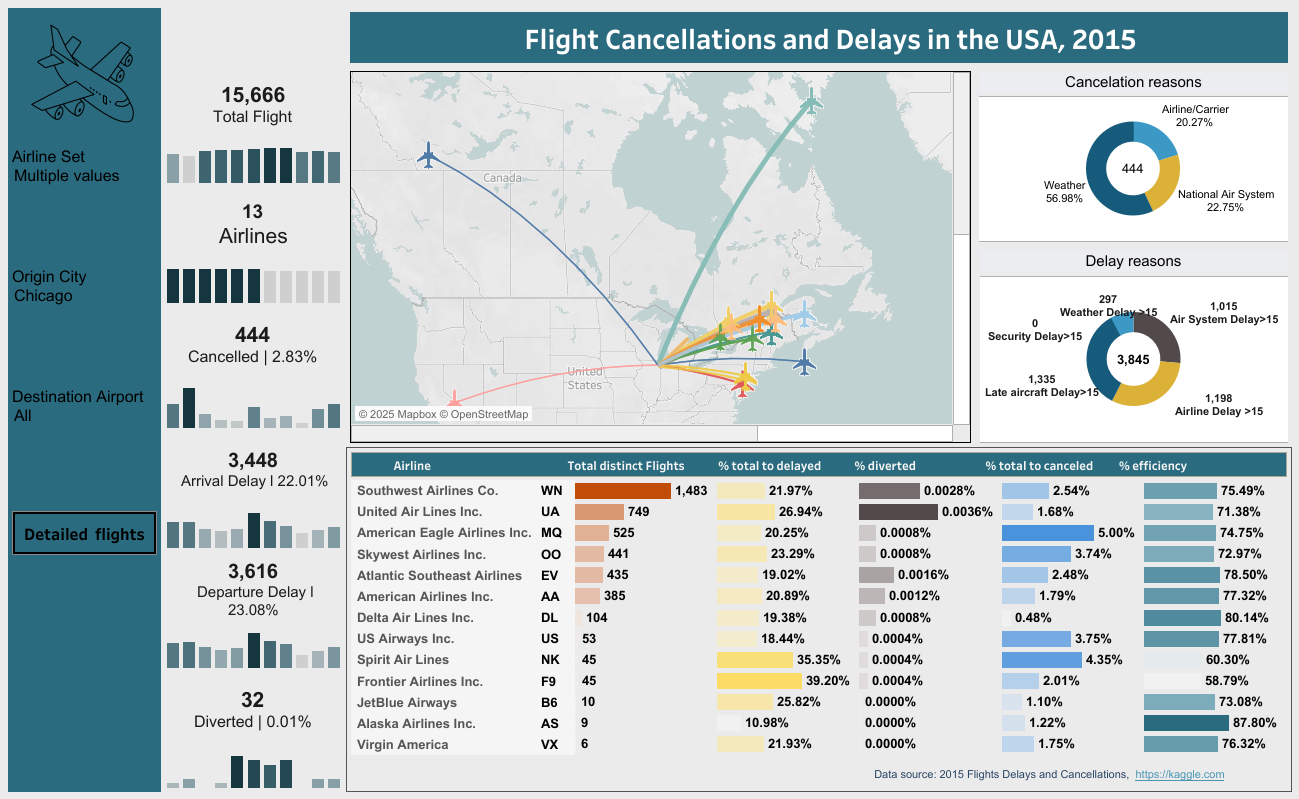

This screenshot's page, from the dashboard's own definition file:
{"tool":"tableau","page":{"name":"Main Dashboard ","canvas":[1300,800],"ordinal":1},"visuals":[{"type":"blank","box":[161,8,185,59]},{"type":"text","box":[346,8,946,59]},{"type":"image","param":"Image/airplane_16975381.png","box":[15,19,136,109]},{"type":"worksheet","title":"KPI Total Flights","mark":"Automatic","box":[161,67,185,75]},{"type":"worksheet","title":"Map","mark":"Automatic","box":[346,67,629,380]},{"type":"worksheet","title":"Cancelation reasons","mark":"Pie","rows":["Calculation_2252362804025778179","Calculation_2252362804025778179"],"box":[975,67,317,179]},{"type":"blank","box":[8,94,153,48]},{"type":"filter","title":"Total Bar","param":"[federated.0401b3v0t1765k1da4qfj1s9hckf].[Airline Set]","box":[8,142,153,105]},{"type":"worksheet","title":"Total Flight Line","mark":"Bar","rows":["Flight Number (flights_light.csv)"],"cols":["Month (flights_light.csv)"],"box":[161,142,185,45]},{"type":"worksheet","title":"KPI Airlines","mark":"Automatic","box":[161,187,185,75]},{"type":"worksheet","title":"Total Delay","mark":"Pie","rows":["Calculation_2252362804025778179","Calculation_2252362804025778179"],"box":[975,246,317,201]},{"type":"filter","title":"Map","param":"[federated.0401b3v0t1765k1da4qfj1s9hckf].[none:CITY (airports.csv1):nk]","box":[8,262,153,96]},{"type":"worksheet","title":"Airlines  Line","mark":"Bar","rows":["AIRLINE"],"cols":["Month (flights_light.csv)"],"box":[161,262,185,45]},{"type":"worksheet","title":"KPI Cancelled Flight","mark":"Automatic","box":[161,307,185,75]},{"type":"filter","title":"Map","param":"[federated.0401b3v0t1765k1da4qfj1s9hckf].[max:Destination Airport (flights_light","box":[8,382,153,110]},{"type":"worksheet","title":"Canceled Line","mark":"Bar","rows":["Cancelled (flights_light.csv)"],"cols":["Month (flights_light.csv)"],"box":[161,382,185,50]},{"type":"worksheet","title":"KPI Arrival Delay","mark":"Automatic","box":[161,432,185,75]},{"type":"worksheet","title":"Total Bar","mark":"Bar","rows":["AIRLINE","Calculation_2411959112551825411"],"cols":["Calculation_1271141031707394058","Calculation_1858297833858146324","Calculation_1858297833845108753","Calculation_2411959112576438278","Calculation_1854920136498647040"],"box":[347,448,944,312]},{"type":"dashboard-object","box":[8,507,153,52]},{"type":"worksheet","title":"Delayed Arrival Line","mark":"Bar","rows":["Calculation_1858297833854459923"],"cols":["Month (flights_light.csv)"],"box":[161,507,185,45]},{"type":"worksheet","title":"KPI Departure Delay","mark":"Automatic","box":[161,552,185,75]},{"type":"worksheet","title":"Delayed Departure Line","mark":"Bar","rows":["Delayed Flights 15 (copy 2)_1489565618145669121"],"cols":["Month (flights_light.csv)"],"box":[161,627,185,45]},{"type":"worksheet","title":"KPI Diverted Flight","mark":"Automatic","box":[161,672,185,75]},{"type":"worksheet","title":"Diverted Line","mark":"Bar","rows":["Calculation_1858297833844039696"],"cols":["Month (flights_light.csv)"],"box":[161,747,185,45]},{"type":"text","box":[810,756,479,37]}]}

Visuals, with their boxes in screenshot pixels (x1, y1, x2, y2), scaled from the page's 1300x800 canvas onto the 1299x799 screenshot:
blank: {"left": 161, "top": 8, "right": 346, "bottom": 67}
text: {"left": 346, "top": 8, "right": 1291, "bottom": 67}
image: {"left": 15, "top": 19, "right": 151, "bottom": 128}
"KPI Total Flights" worksheet: {"left": 161, "top": 67, "right": 346, "bottom": 142}
"Map" worksheet: {"left": 346, "top": 67, "right": 974, "bottom": 446}
"Cancelation reasons" worksheet (Pie marks): {"left": 974, "top": 67, "right": 1291, "bottom": 246}
blank: {"left": 8, "top": 94, "right": 161, "bottom": 142}
"Total Bar" filter: {"left": 8, "top": 142, "right": 161, "bottom": 247}
"Total Flight Line" worksheet (Bar marks): {"left": 161, "top": 142, "right": 346, "bottom": 187}
"KPI Airlines" worksheet: {"left": 161, "top": 187, "right": 346, "bottom": 262}
"Total Delay" worksheet (Pie marks): {"left": 974, "top": 246, "right": 1291, "bottom": 446}
"Map" filter: {"left": 8, "top": 262, "right": 161, "bottom": 358}
"Airlines  Line" worksheet (Bar marks): {"left": 161, "top": 262, "right": 346, "bottom": 307}
"KPI Cancelled Flight" worksheet: {"left": 161, "top": 307, "right": 346, "bottom": 382}
"Map" filter: {"left": 8, "top": 382, "right": 161, "bottom": 491}
"Canceled Line" worksheet (Bar marks): {"left": 161, "top": 382, "right": 346, "bottom": 431}
"KPI Arrival Delay" worksheet: {"left": 161, "top": 431, "right": 346, "bottom": 506}
"Total Bar" worksheet (Bar marks): {"left": 347, "top": 447, "right": 1290, "bottom": 759}
dashboard-object: {"left": 8, "top": 506, "right": 161, "bottom": 558}
"Delayed Arrival Line" worksheet (Bar marks): {"left": 161, "top": 506, "right": 346, "bottom": 551}
"KPI Departure Delay" worksheet: {"left": 161, "top": 551, "right": 346, "bottom": 626}
"Delayed Departure Line" worksheet (Bar marks): {"left": 161, "top": 626, "right": 346, "bottom": 671}
"KPI Diverted Flight" worksheet: {"left": 161, "top": 671, "right": 346, "bottom": 746}
"Diverted Line" worksheet (Bar marks): {"left": 161, "top": 746, "right": 346, "bottom": 791}
text: {"left": 809, "top": 755, "right": 1288, "bottom": 792}
